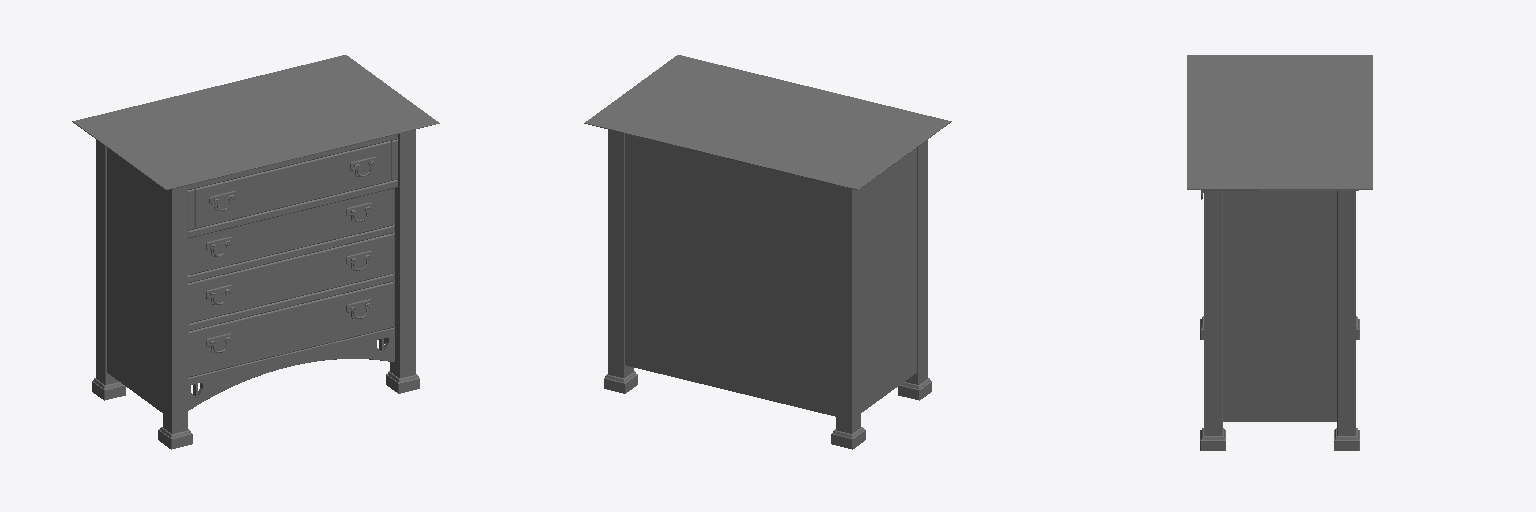
Rendered from raw_model.obj.
The picture shows the model from 3 angles: view 1: azimuth 30°, elevation 25°; view 2: azimuth 150°, elevation 25°; view 3: azimuth 270°, elevation 25°; orthographic projection.
Size of the model in its own units: 0.6599 by 0.6174 by 0.3899.